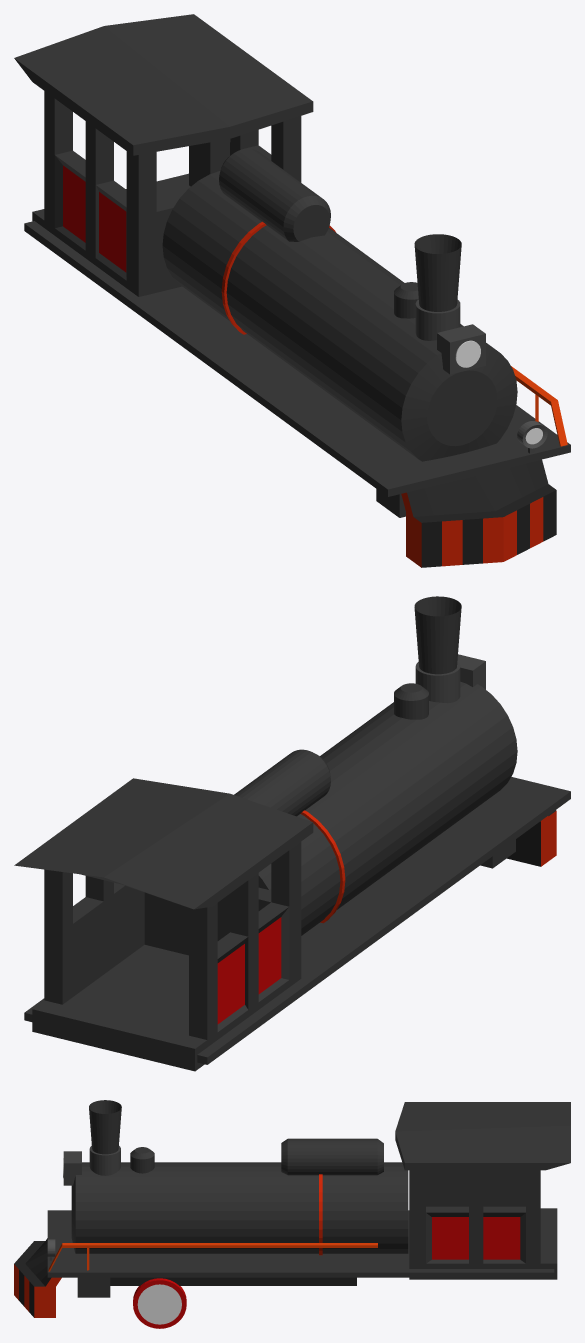
Rendered from parovoZ1.glb.
The picture shows the model from 3 angles, top to bottom: view 1: azimuth 30°, elevation 25°; view 2: azimuth 150°, elevation 25°; view 3: azimuth 270°, elevation 25°; orthographic projection. The views are drawn at different scales.
Visible parts, largest first — view 1: Cylinder, Cube.010, Cube, Cube.002, Cube.009, Cylinder.008, Cylinder.007, Cube.006, Cylinder.004, Cube.003, Cylinder.005, Cylinder.003; view 2: Cube.002, Cylinder, Cube.010, Cube, Cylinder.008, Cylinder.007, Cube.009, Cylinder.004, Cylinder.005, Cube.006, Cylinder.003; view 3: Cylinder, Cube.002, Cube.010, Cube, Cylinder.008, Cube.009, Cylinder.002, Cube.008, Cube.003, Cylinder.007, Cube.001, Cylinder.004 (+3 smaller).
Part boxes in pixels (x1,y1,x2,y2): Cylinder: [162, 171, 517, 461]; Cube.010: [14, 14, 313, 155]; Cube: [24, 221, 570, 496]; Cube.002: [32, 91, 301, 296]; Cube.009: [401, 459, 556, 567]; Cylinder.008: [219, 148, 330, 241]; Cylinder.007: [414, 234, 461, 311]; Cube.006: [437, 324, 485, 374]; Cylinder.004: [415, 299, 460, 340]; Cube.003: [511, 366, 567, 446]; Cylinder.005: [394, 282, 418, 318]; Cylinder.003: [221, 221, 335, 334]; Cube.002: [32, 842, 301, 1071]; Cylinder: [258, 681, 517, 935]; Cube.010: [14, 778, 313, 909]; Cube: [24, 777, 570, 1064]; Cylinder.008: [234, 749, 330, 816]; Cylinder.007: [414, 596, 461, 674]; Cube.009: [507, 810, 556, 866]; Cylinder.004: [415, 662, 460, 703]; Cylinder.005: [394, 683, 428, 719]; Cube.006: [457, 654, 485, 689]; Cylinder.003: [300, 810, 345, 923]; Cylinder: [71, 1162, 408, 1253]; Cube.002: [409, 1170, 557, 1279]; Cube.010: [395, 1102, 570, 1170]; Cube: [47, 1210, 554, 1277]; Cylinder.008: [281, 1138, 383, 1175]; Cube.009: [14, 1238, 61, 1317]; Cylinder.002: [133, 1278, 186, 1328]; Cube.008: [110, 1277, 356, 1285]; Cube.003: [48, 1243, 377, 1271]; Cylinder.007: [89, 1100, 121, 1154]; Cube.001: [77, 1277, 110, 1297]; Cylinder.004: [89, 1145, 120, 1175].
Size of what is drawn, in the model's own units: 5.68 by 8.86 by 21.46.
